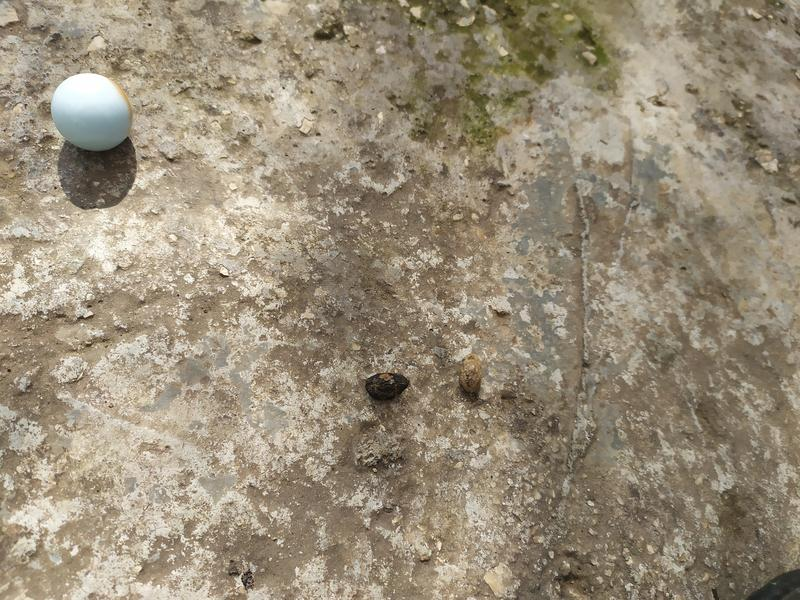Warning: (48, 71, 137, 154)
